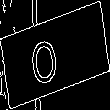O_N: (39, 25, 71, 85)
